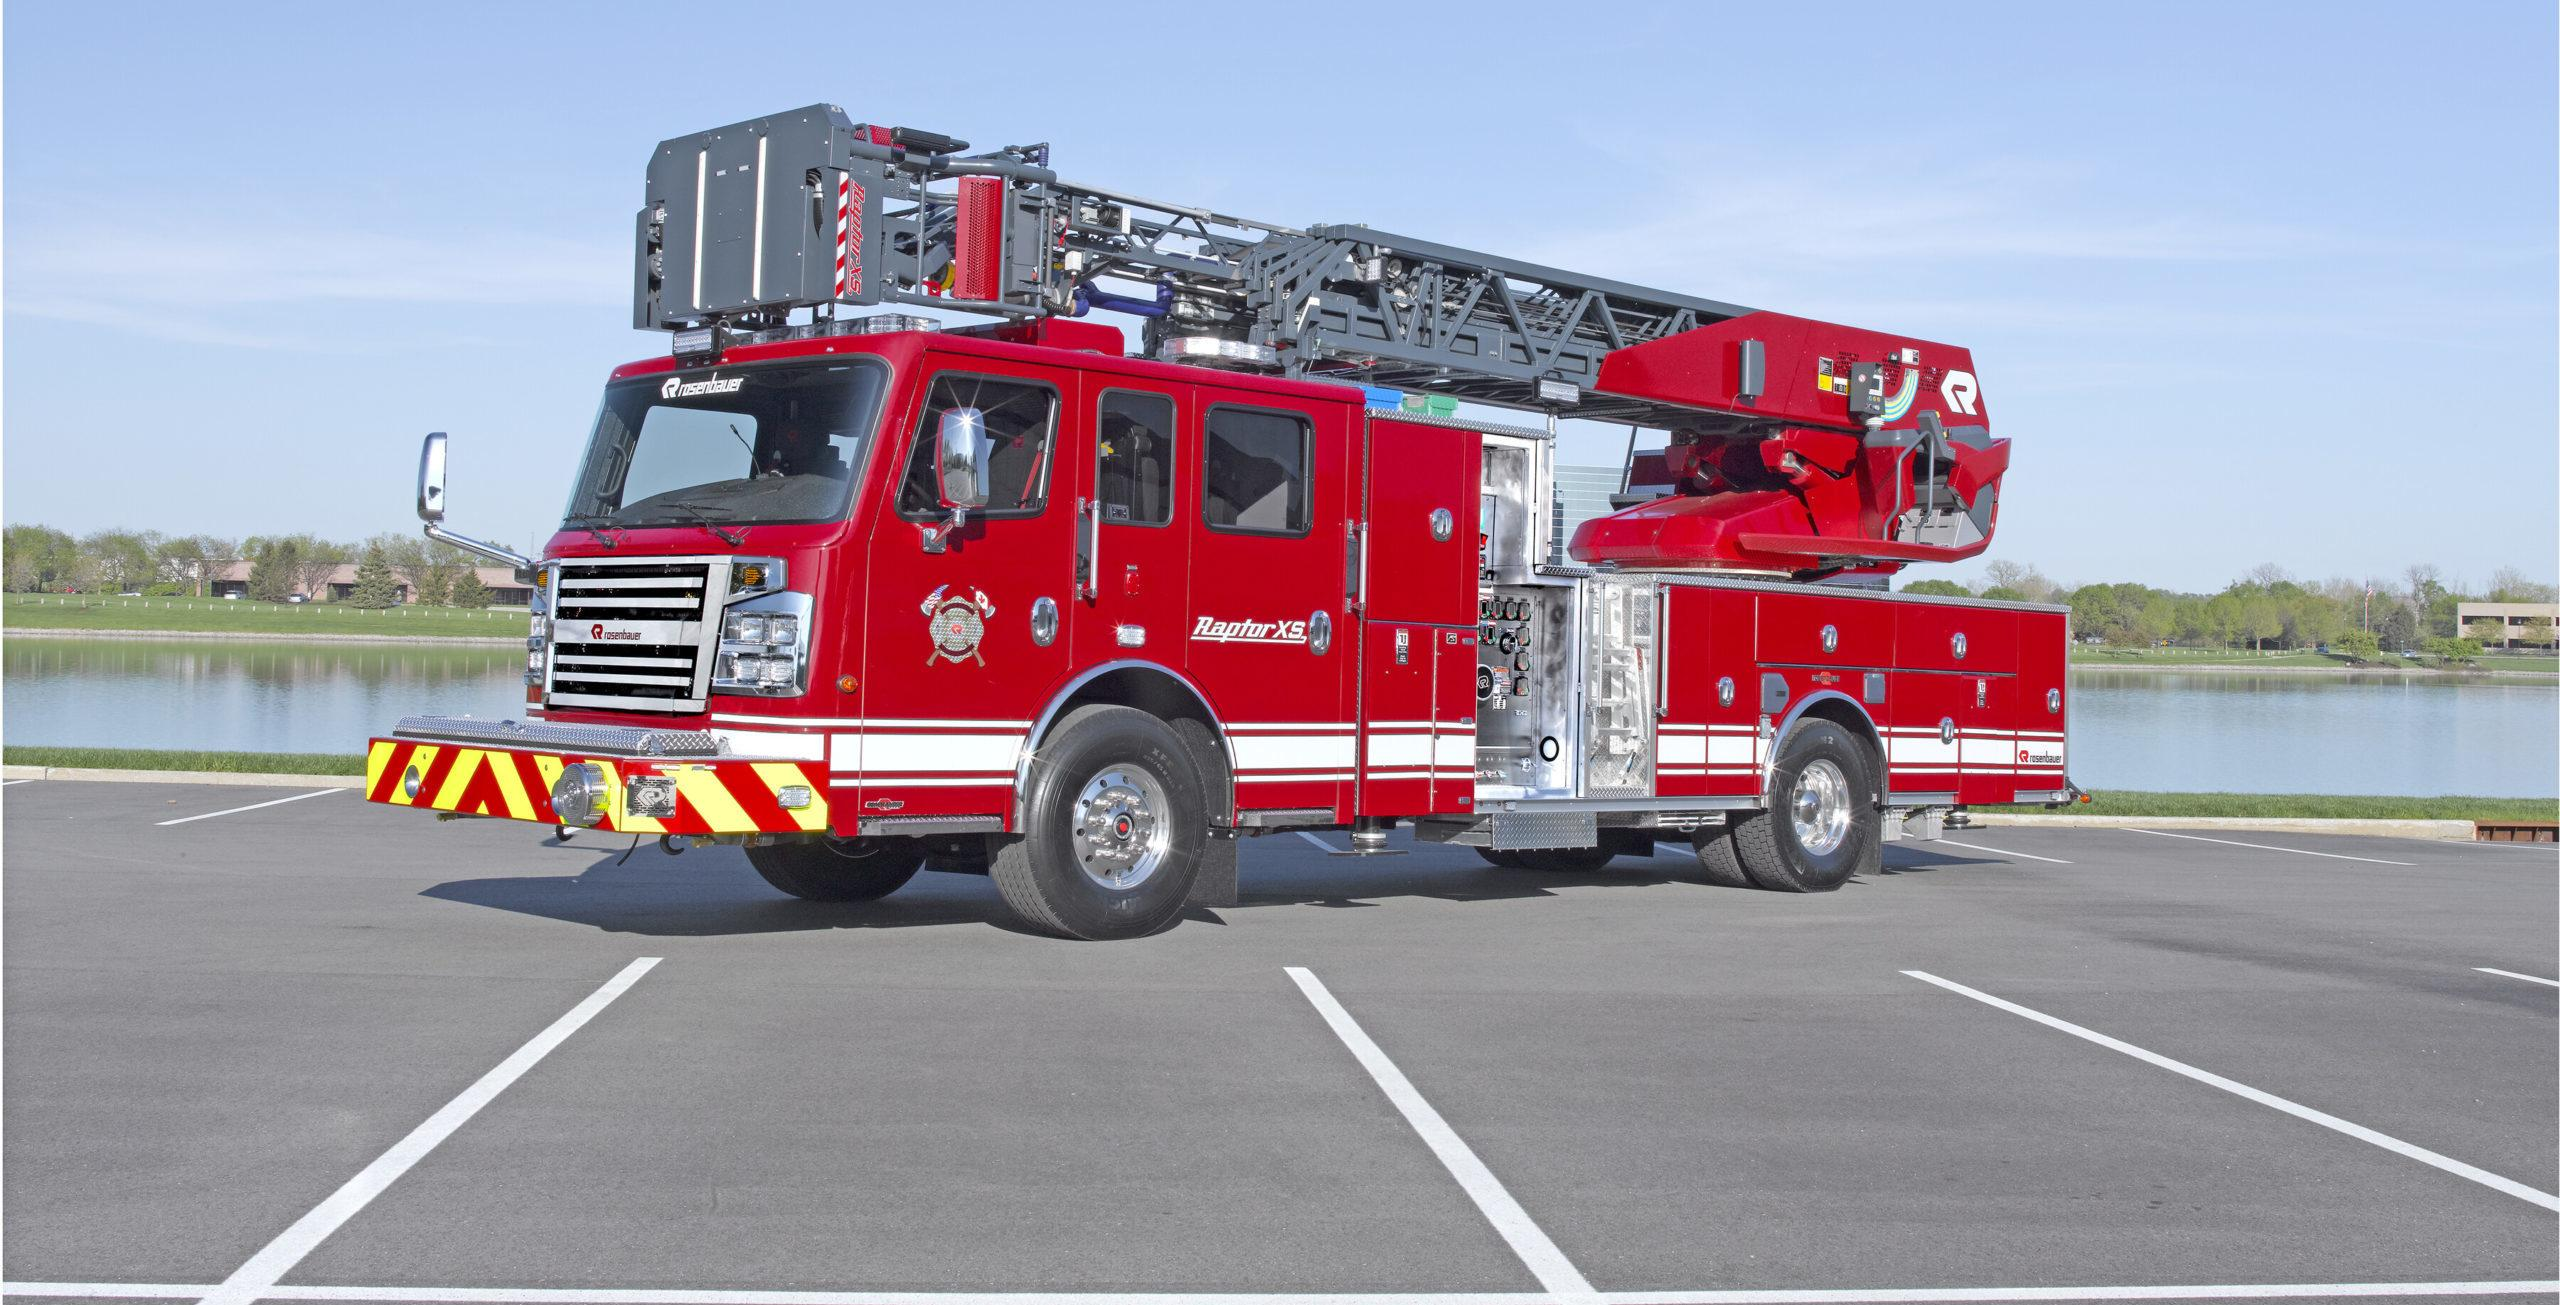firetruck_off: (363, 108, 2081, 939)
